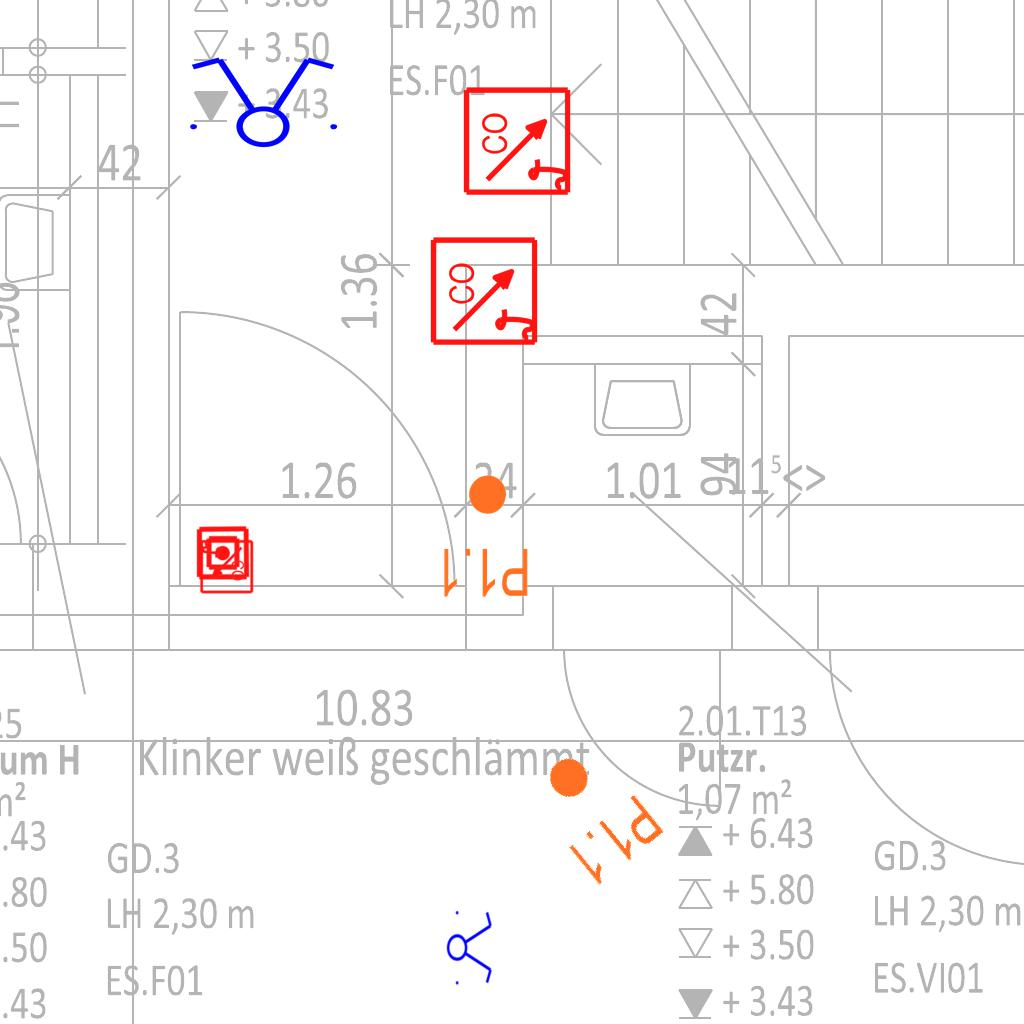Downlight_LED_Einbauleuchten_Flur: (516, 732, 669, 892), (438, 472, 531, 600)
NAM-Nichtautomatischer_Melder: (195, 525, 251, 581)
ROA_Rauchmelder_optisch_mit_Signalgeber_(Sockelsirene): (429, 234, 542, 347), (462, 84, 575, 197), (198, 539, 254, 595)
Serienschalter: (178, 53, 346, 149), (446, 905, 494, 989)
